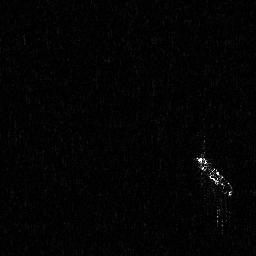ship: (190, 149, 235, 198)
